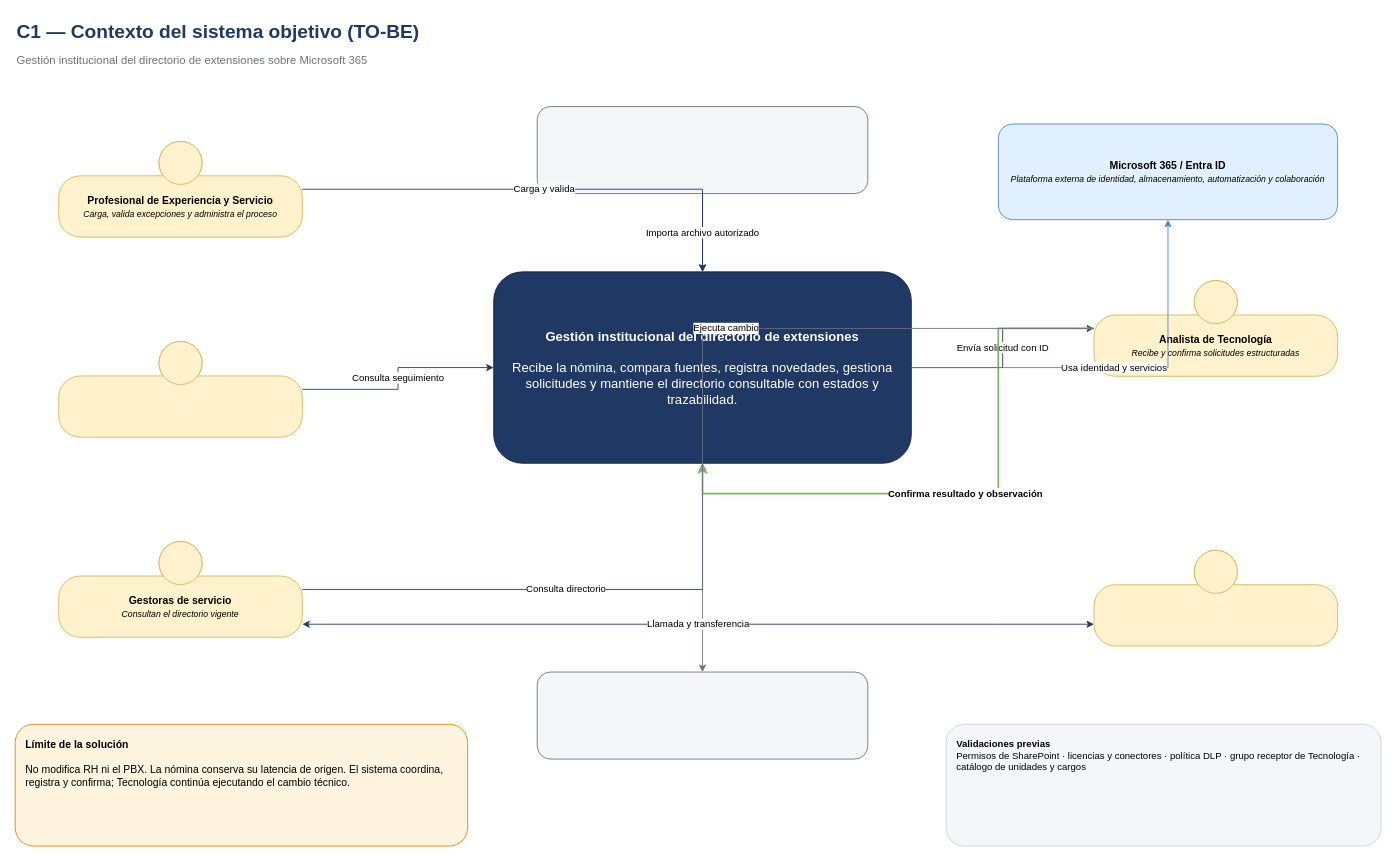
Image size: 1396x861. Some labels were removed from this diagram. The shapes that lost their labels are listed below. From the top down, each one's box as (x1, y1, x2, y2) in pixels, then its label:
(536, 106, 868, 194): Sistema de Desarrollo Humano Externo · exporta nómina mensual
(58, 341, 302, 437): Jefe de la unidad Consulta seguimiento y excepciones
(1093, 549, 1338, 646): Usuario final Recibe atención y transferencia
(536, 671, 868, 759): PBX institucional Externo · Tecnología ejecuta el aprovisionamiento
